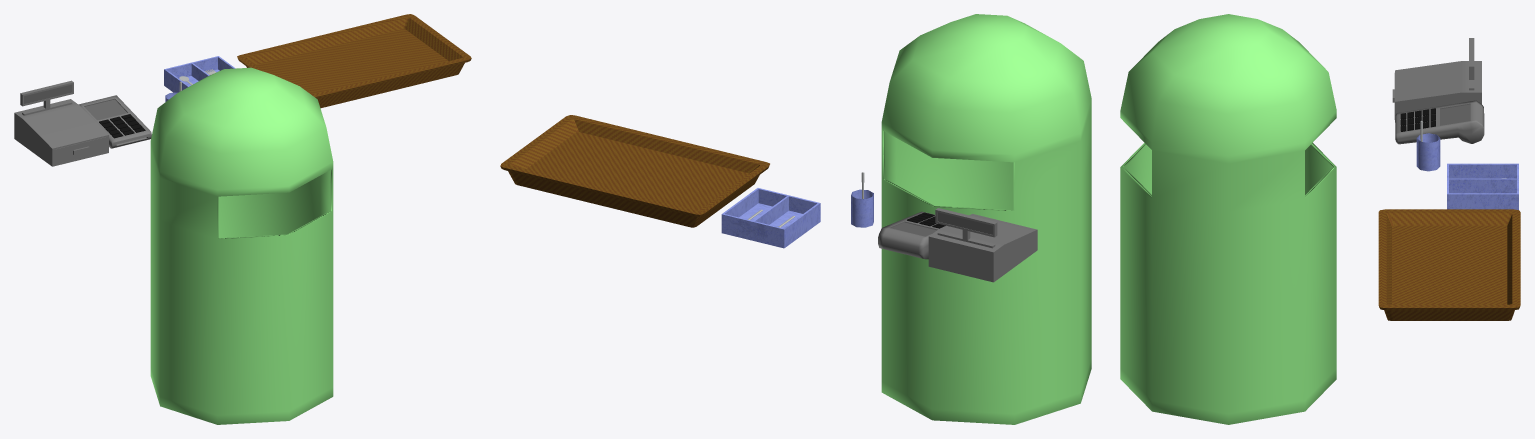
File: Stall Props Assets.fbx
The picture shows the model from 3 angles, left to right: view 1: azimuth 30°, elevation 25°; view 2: azimuth 150°, elevation 25°; view 3: azimuth 270°, elevation 25°; orthographic projection. The views are drawn at different scales.
Visible parts, largest first — view 1: trash_can, tray, cash_register, card_payment, cutlery_holder, money_drawer; view 2: trash_can, tray, cash_register, cutlery_holder, card_payment, chopstick_holder; view 3: trash_can, tray, cash_register, cutlery_holder, card_payment, chopstick_holder.
Boxes of the visible parts, x1,y1,x2,y2 form: trash_can: (150, 67, 333, 424); tray: (237, 14, 471, 108); cash_register: (14, 80, 108, 166); card_payment: (78, 95, 151, 148); cutlery_holder: (164, 56, 235, 92); money_drawer: (53, 136, 107, 164); trash_can: (881, 14, 1091, 424); tray: (500, 115, 769, 227); cash_register: (928, 208, 1037, 282); cutlery_holder: (721, 188, 820, 248); card_payment: (878, 211, 945, 259); chopstick_holder: (851, 189, 873, 227); trash_can: (1120, 14, 1336, 424); tray: (1378, 209, 1520, 320); cash_register: (1395, 38, 1481, 122); cutlery_holder: (1447, 163, 1518, 209); card_payment: (1395, 100, 1484, 144); chopstick_holder: (1416, 133, 1440, 171).
Size of the model in its own units: 2.64 by 1.88 by 1.93.
